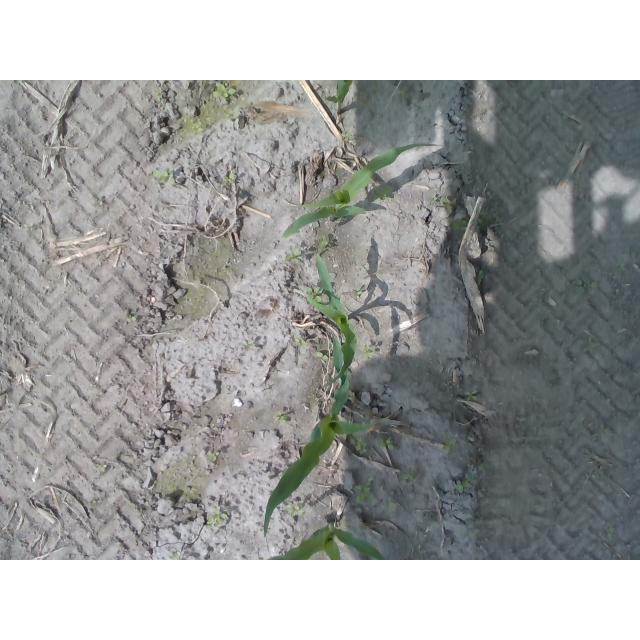Maize: (262, 372, 379, 537), (280, 142, 442, 239), (303, 256, 358, 385), (259, 516, 385, 561), (324, 80, 353, 120)
Weeds: (354, 477, 378, 503), (432, 194, 456, 217), (205, 506, 226, 527), (190, 117, 215, 134), (456, 475, 477, 493), (212, 83, 236, 98), (304, 285, 322, 303), (285, 503, 306, 518), (450, 219, 467, 236), (223, 105, 239, 119), (355, 439, 369, 454), (465, 387, 479, 401), (272, 411, 287, 424), (314, 351, 328, 364), (378, 439, 394, 450), (288, 249, 303, 260), (152, 170, 168, 180), (402, 471, 418, 481), (444, 438, 457, 450), (384, 497, 396, 509), (207, 451, 219, 462), (223, 176, 236, 185), (363, 348, 373, 359), (295, 337, 306, 346), (319, 238, 330, 247), (127, 315, 138, 323)
